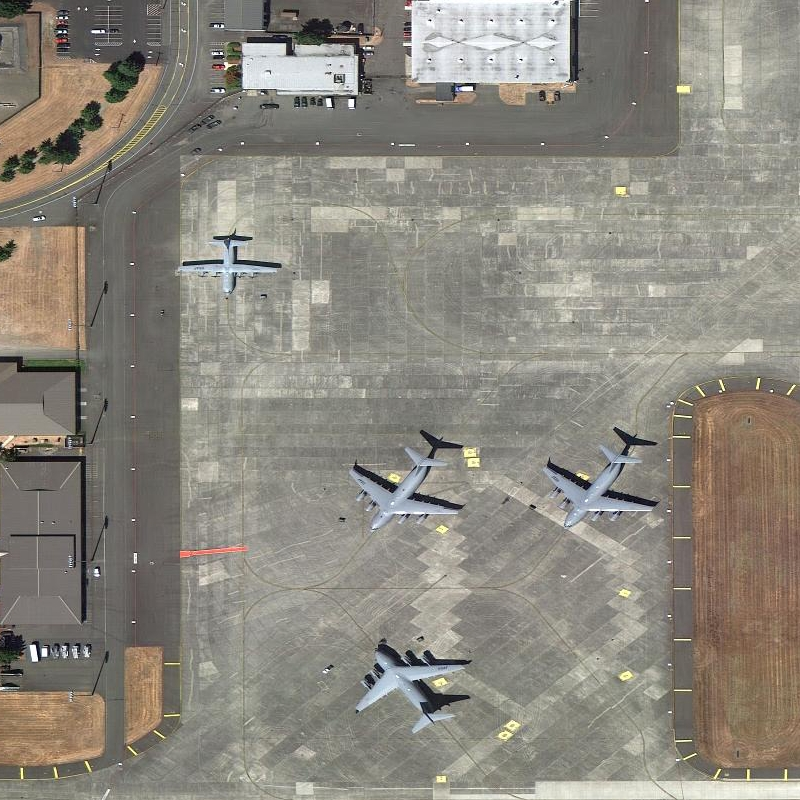A2: (170, 227, 285, 300)
A3: (349, 633, 478, 735), (342, 442, 467, 533), (537, 443, 658, 535)
